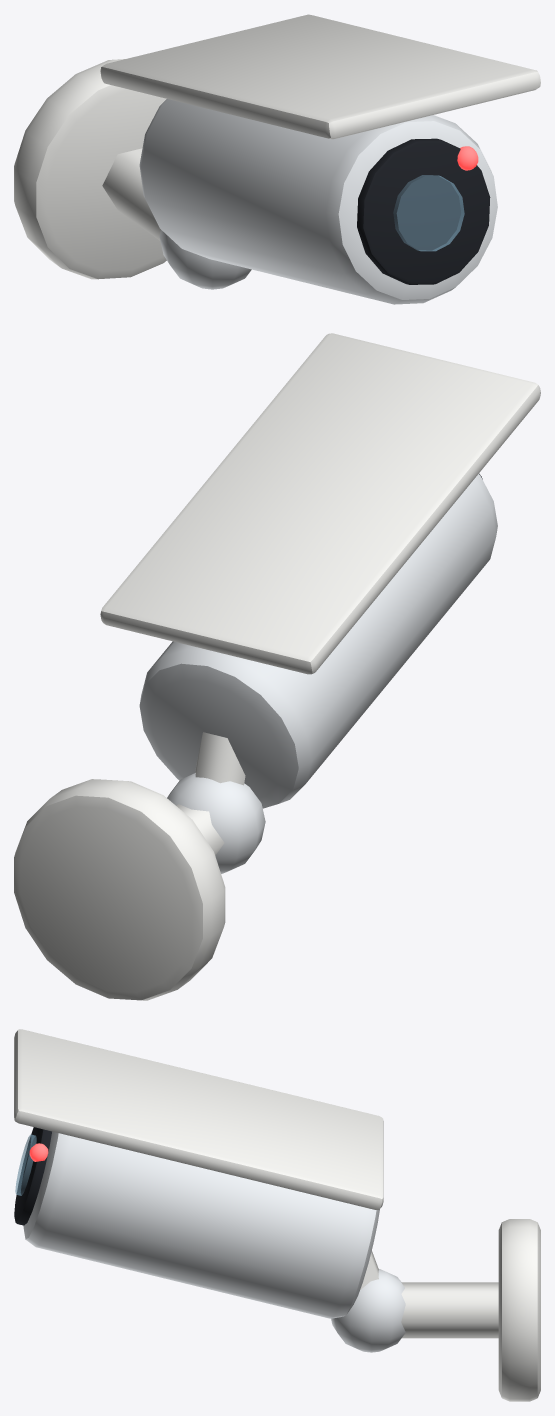
File: camera_seguranca.glb
3 views of the same model, one above another, from view 1: azimuth 30°, elevation 25°; view 2: azimuth 150°, elevation 25°; view 3: azimuth 270°, elevation 25° (orthographic). The views are drawn at different scales.
Parts seen in each view (by area): view 1: camera, camera_seguranca; view 2: camera, camera_seguranca; view 3: camera, camera_seguranca.
Part boxes in pixels (bbox=[...]): camera: bbox=[100, 14, 540, 304]; camera_seguranca: bbox=[14, 59, 166, 279]; camera: bbox=[100, 333, 540, 873]; camera_seguranca: bbox=[14, 779, 225, 1000]; camera: bbox=[14, 1029, 405, 1352]; camera_seguranca: bbox=[401, 1219, 540, 1401].
Bounding box in the file's own units: 0.14 × 0.2536 × 0.3732.
Materials: 3 (1 with a texture image).
